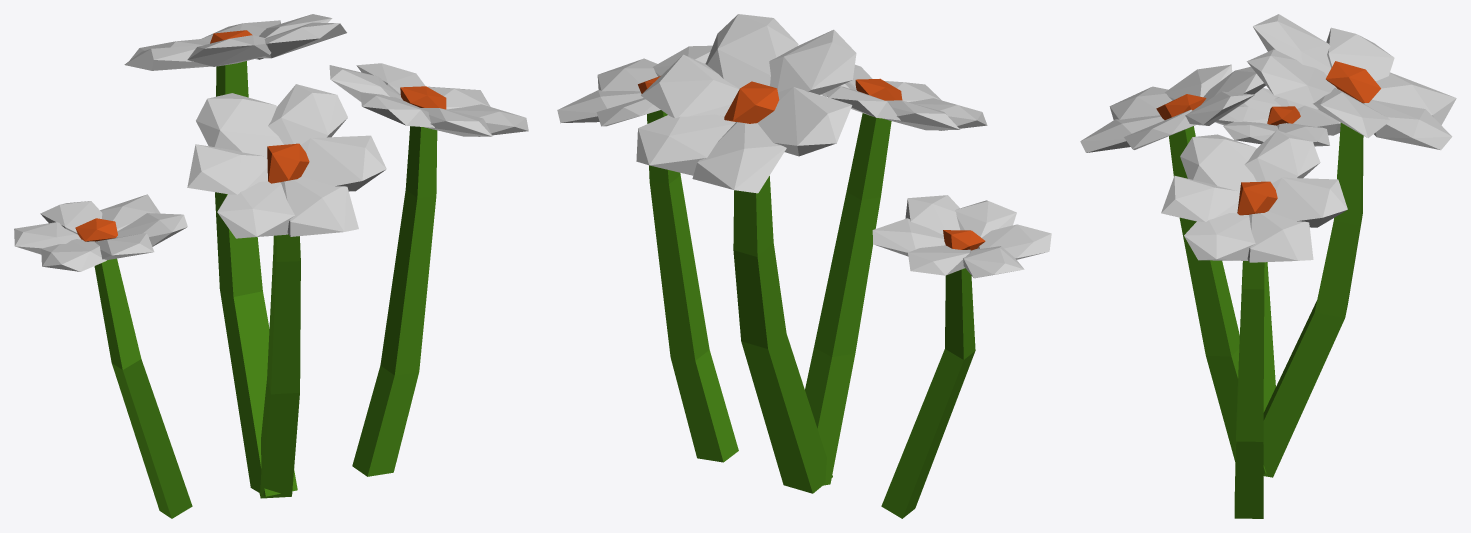
Rendered from flower5.obj.
The picture shows the model from 3 angles, left to right: view 1: azimuth 30°, elevation 25°; view 2: azimuth 150°, elevation 25°; view 3: azimuth 270°, elevation 25°; orthographic projection. The views are drawn at different scales.
Visible parts, largest first — view 1: Flower3_3_Cube.018; view 2: Flower3_3_Cube.018; view 3: Flower3_3_Cube.018.
Part boxes in pixels (left/top/right/bottom): Flower3_3_Cube.018: left=14, top=14, right=528, bottom=518; Flower3_3_Cube.018: left=557, top=14, right=1051, bottom=518; Flower3_3_Cube.018: left=1080, top=14, right=1456, bottom=518.
Size of the model in its own units: 0.8432 by 0.7851 by 0.6163.
